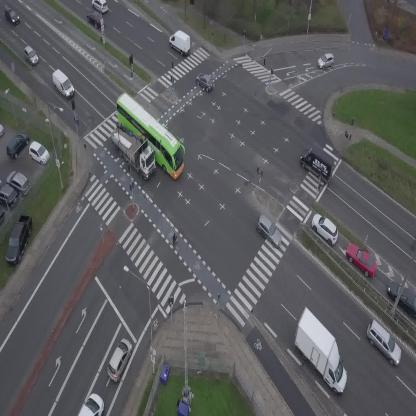bicycle: (170, 232, 180, 250)
bus: (104, 89, 196, 182)
car: (359, 319, 409, 368), (341, 238, 383, 282), (102, 336, 137, 384), (306, 209, 344, 247), (250, 212, 287, 248), (82, 8, 107, 33), (78, 393, 104, 416), (193, 69, 217, 93), (19, 44, 41, 68), (1, 5, 22, 27), (314, 51, 337, 71), (92, 0, 108, 15)
lorry: (279, 305, 365, 398), (102, 119, 165, 181), (293, 141, 342, 186), (48, 67, 79, 99), (165, 27, 196, 58)
